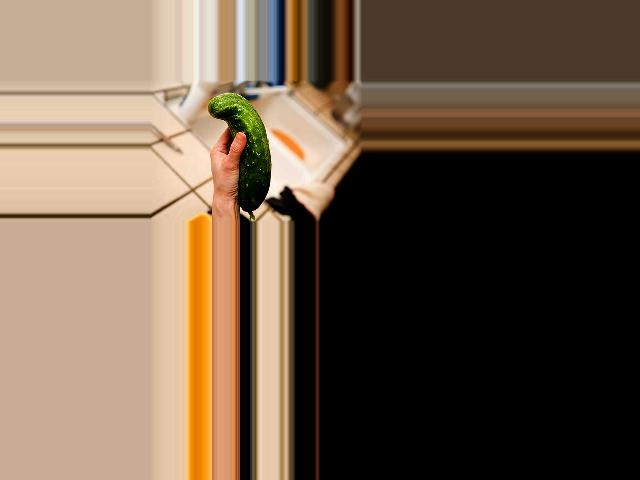cucumber: (208, 92, 272, 220)
